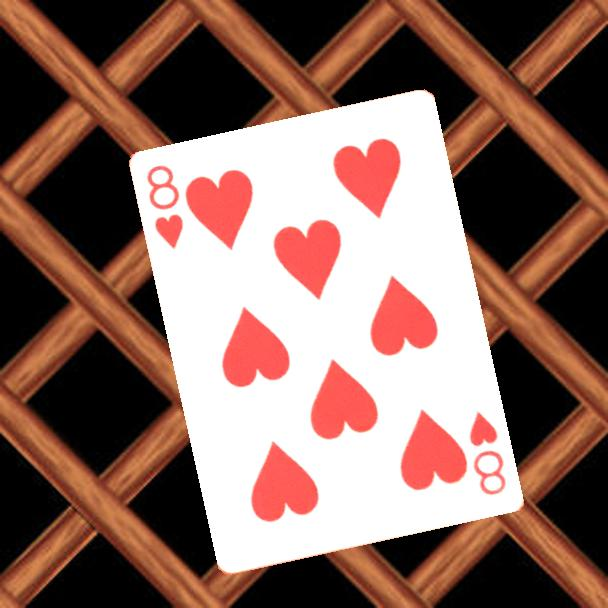h08: (466, 408, 510, 499), (143, 162, 187, 253)
